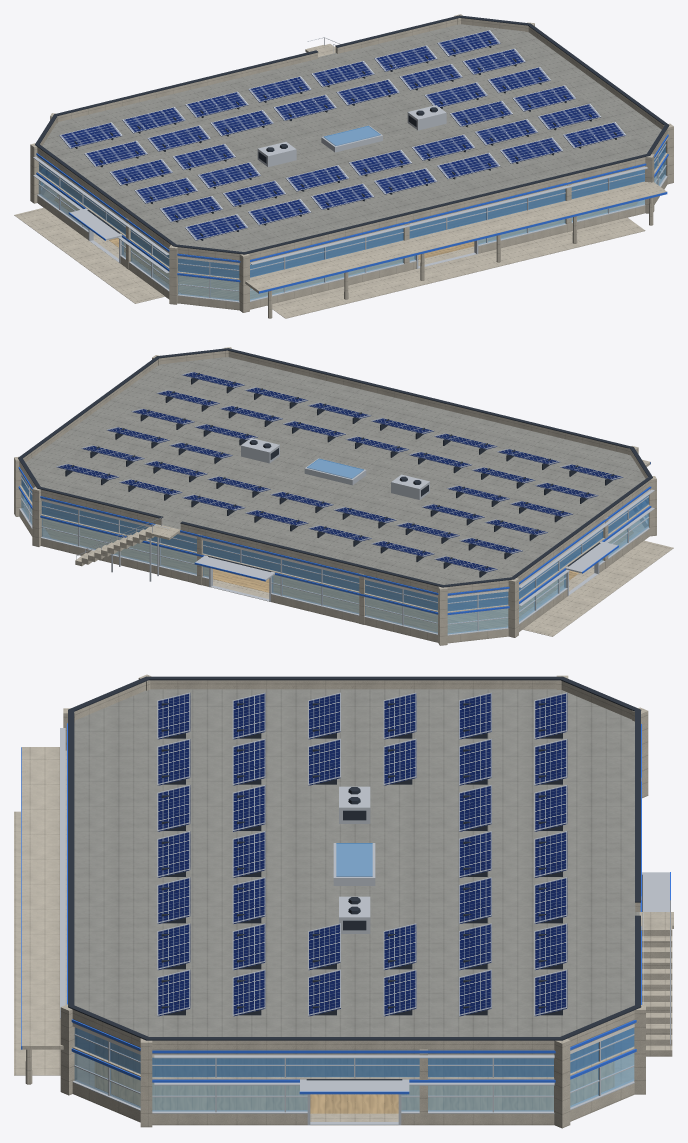
Rendered from landmark_shoreline_east_office.glb.
The picture shows the model from 3 angles, top to bottom: view 1: azimuth 30°, elevation 25°; view 2: azimuth 150°, elevation 25°; view 3: azimuth 270°, elevation 25°; orthographic projection. The views are drawn at different scales.
Visible parts, largest first — view 1: ShoreEast_roof, ShoreEast_solar, ShoreEast_conc, ShoreEast_plaza, ShoreEast_alum, ShoreEast_glass_up, ShoreEast_floor_oak, ShoreEast_dark, ShoreEast_glass_lo, ShoreEast_accent, ShoreEast_int_wall, ShoreEast_floor_conc; view 2: ShoreEast_roof, ShoreEast_conc, ShoreEast_solar, ShoreEast_floor_oak, ShoreEast_alum, ShoreEast_dark, ShoreEast_glass_lo, ShoreEast_glass_up, ShoreEast_plaza, ShoreEast_accent, ShoreEast_int_wall, ShoreEast_floor_conc; view 3: ShoreEast_roof, ShoreEast_solar, ShoreEast_conc, ShoreEast_floor_oak, ShoreEast_alum, ShoreEast_dark, ShoreEast_glass_lo, ShoreEast_glass_up, ShoreEast_accent, ShoreEast_plaza, ShoreEast_floor_conc, ShoreEast_int_wall.
Boxes of the visible parts, x1=… form: ShoreEast_roof: x1=37, y1=24, x2=666, y2=262; ShoreEast_solar: x1=59, y1=30, x2=626, y2=240; ShoreEast_conc: x1=30, y1=14, x2=673, y2=318; ShoreEast_plaza: x1=14, y1=207, x2=645, y2=318; ShoreEast_alum: x1=33, y1=37, x2=667, y2=302; ShoreEast_glass_up: x1=39, y1=125, x2=665, y2=278; ShoreEast_floor_oak: x1=54, y1=172, x2=644, y2=299; ShoreEast_dark: x1=35, y1=15, x2=669, y2=254; ShoreEast_glass_lo: x1=39, y1=160, x2=665, y2=300; ShoreEast_accent: x1=36, y1=134, x2=668, y2=293; ShoreEast_int_wall: x1=37, y1=138, x2=667, y2=265; ShoreEast_floor_conc: x1=38, y1=170, x2=660, y2=310; ShoreEast_roof: x1=19, y1=357, x2=649, y2=595; ShoreEast_conc: x1=14, y1=347, x2=656, y2=645; ShoreEast_solar: x1=56, y1=372, x2=623, y2=572; ShoreEast_floor_oak: x1=43, y1=504, x2=633, y2=632; ShoreEast_alum: x1=19, y1=438, x2=654, y2=635; ShoreEast_dark: x1=18, y1=348, x2=652, y2=587; ShoreEast_glass_lo: x1=21, y1=493, x2=648, y2=634; ShoreEast_glass_up: x1=21, y1=458, x2=648, y2=611; ShoreEast_plaza: x1=523, y1=540, x2=673, y2=636; ShoreEast_accent: x1=18, y1=462, x2=651, y2=614; ShoreEast_int_wall: x1=19, y1=470, x2=649, y2=598; ShoreEast_floor_conc: x1=21, y1=502, x2=649, y2=642; ShoreEast_roof: x1=73, y1=689, x2=639, y2=1054; ShoreEast_solar: x1=157, y1=692, x2=567, y2=1016; ShoreEast_conc: x1=21, y1=674, x2=673, y2=1128; ShoreEast_floor_oak: x1=95, y1=1036, x2=614, y2=1113; ShoreEast_alum: x1=60, y1=728, x2=670, y2=1125; ShoreEast_dark: x1=68, y1=676, x2=642, y2=1080; ShoreEast_glass_lo: x1=74, y1=1053, x2=634, y2=1111; ShoreEast_glass_up: x1=74, y1=843, x2=634, y2=1077; ShoreEast_accent: x1=21, y1=723, x2=670, y2=1094; ShoreEast_plaza: x1=14, y1=811, x2=60, y2=1075; ShoreEast_floor_conc: x1=77, y1=1028, x2=633, y2=1125; ShoreEast_int_wall: x1=72, y1=1023, x2=634, y2=1057.
Bounding box in the file's own units: 72.34 × 8.06 × 50.77.
15 materials, 7 textured.
